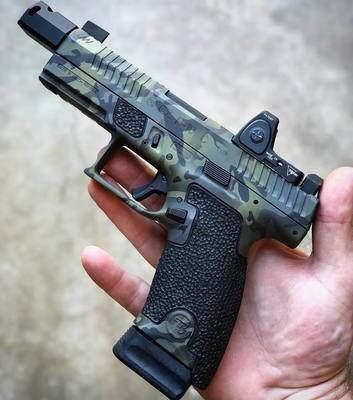gun: (12, 1, 325, 399)
